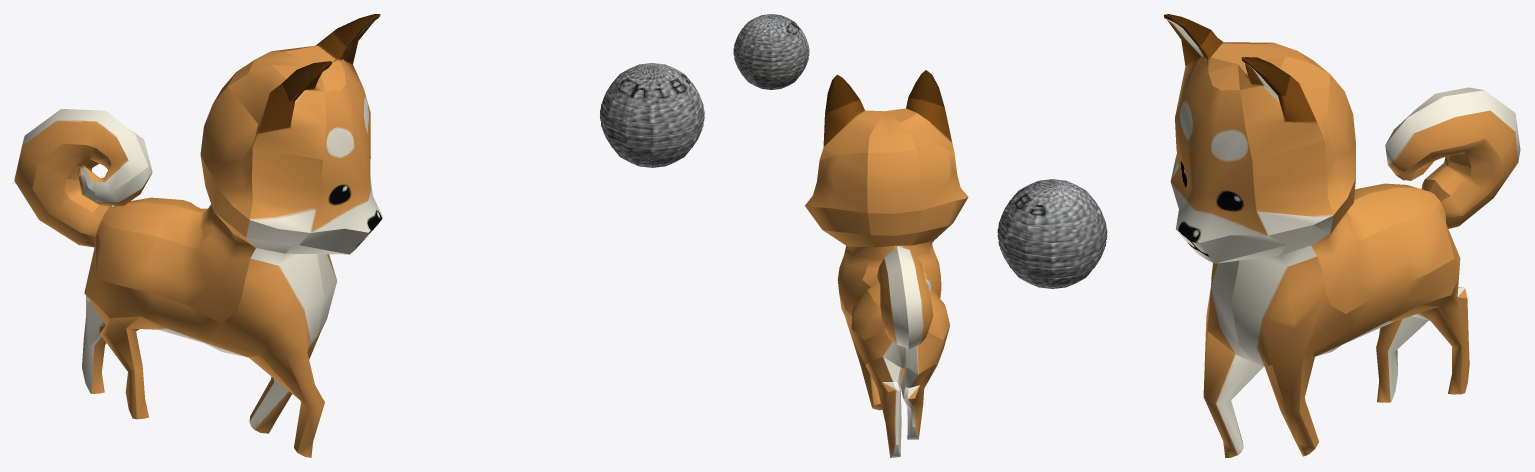
Rendered from ball_frame15.obj.
3 renders of one model, left to right at view 1: azimuth 30°, elevation 25°; view 2: azimuth 150°, elevation 25°; view 3: azimuth 270°, elevation 25°, orthographic. The views are drawn at different scales.
Visible parts, largest first — view 1: walk1:newRigging:BodzL1, pSphere1; view 2: walk1:newRigging:BodzL1, pSphere1; view 3: walk1:newRigging:BodzL1, pSphere1.
Part boxes in pixels (x1,y1,x2,y2): walk1:newRigging:BodzL1: [14, 14, 383, 457]; pSphere1: [600, 63, 704, 167]; walk1:newRigging:BodzL1: [805, 70, 968, 457]; pSphere1: [733, 14, 809, 89]; walk1:newRigging:BodzL1: [1164, 14, 1520, 457]; pSphere1: [997, 179, 1107, 288].
Size of the model in its own units: 9.34 by 7.98 by 8.58.
2 materials, 2 textured.
